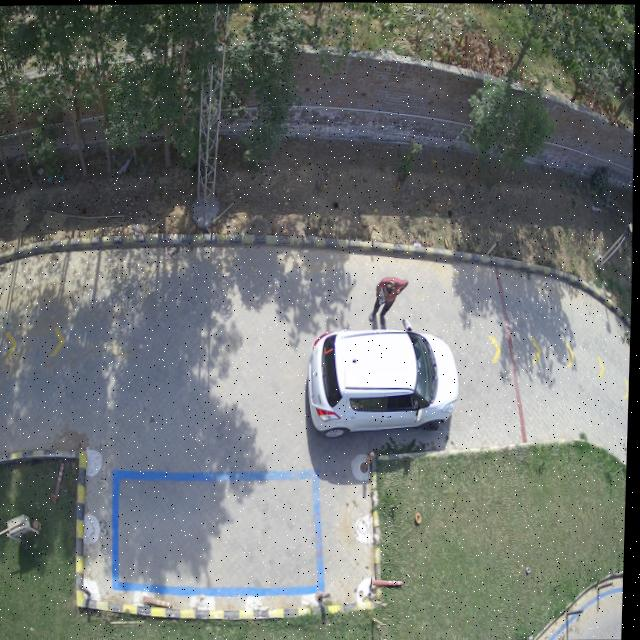car: (310, 317, 461, 437)
